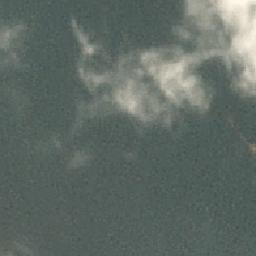cloud: (69, 21, 210, 140), (175, 1, 256, 96)
debris: (242, 135, 256, 155)
